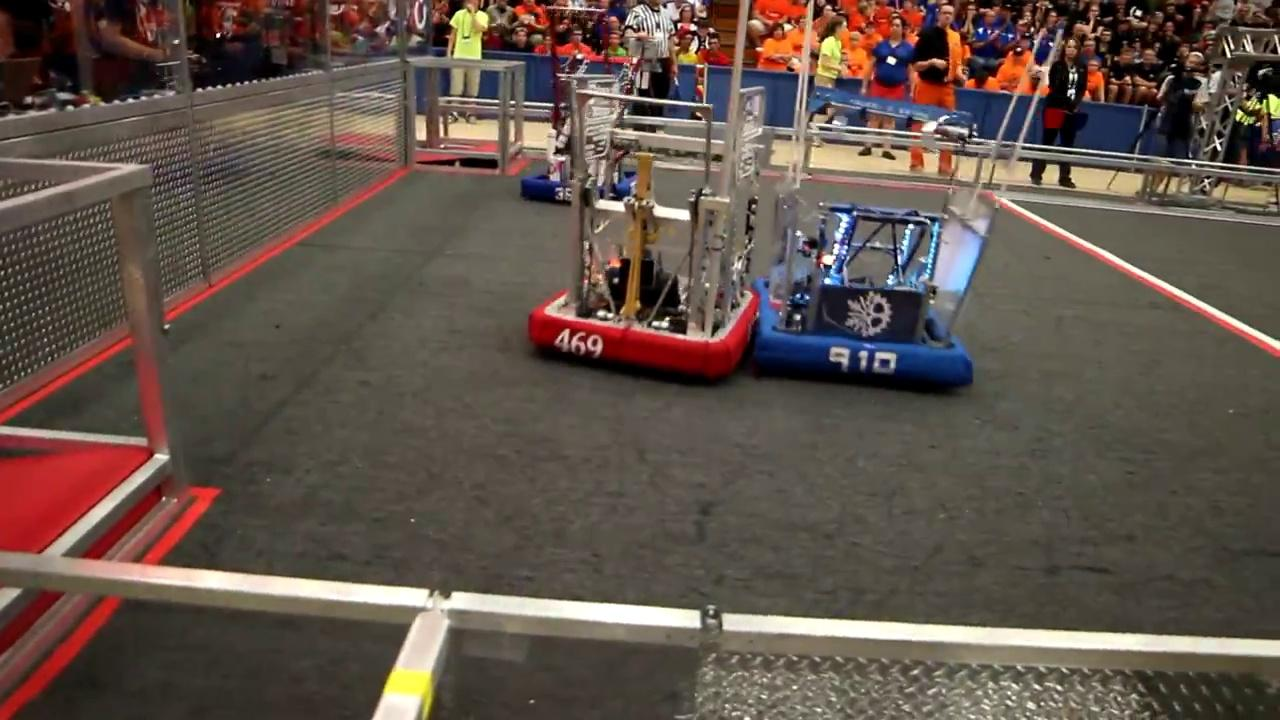robot: (752, 94, 1003, 396), (524, 91, 759, 387), (524, 3, 648, 210)
